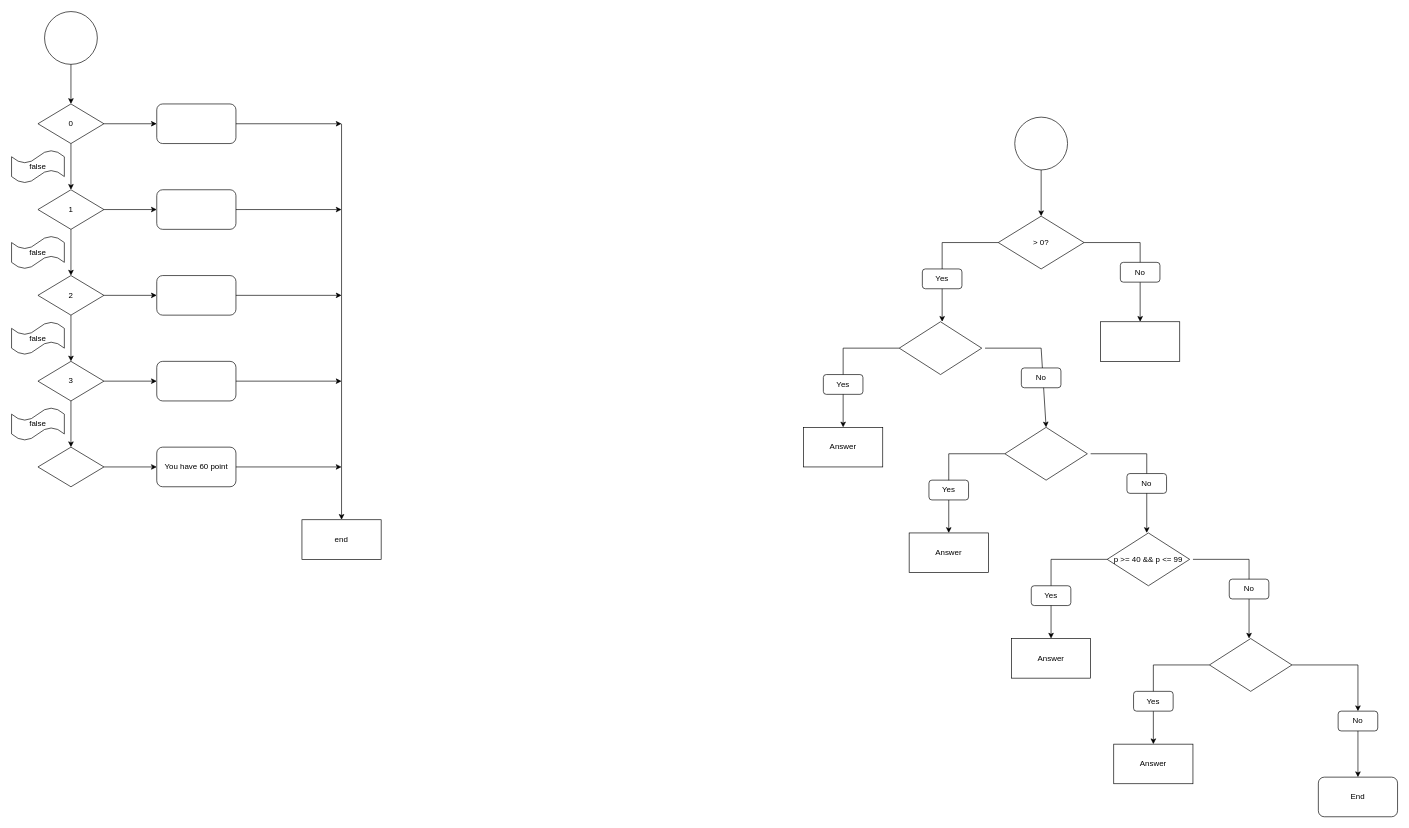
This 1409x828 diagram has some shape labels left out. Each missing label, with the box of its shape:
4 or more: (37, 446, 104, 487)
Incorect value: (1100, 321, 1180, 361)
p >= 10 && p <= 19: (899, 321, 982, 375)
p >= 100: (1209, 638, 1292, 691)
p >= 20 && p <= 49: (1004, 427, 1087, 480)
Start q4: (44, 11, 97, 64)
start q5: (1014, 116, 1068, 170)
You have 0 point: (156, 103, 236, 144)
You have 15 point: (156, 275, 236, 315)
You have 30 point: (156, 361, 236, 401)
You have 5 point: (156, 189, 236, 229)
